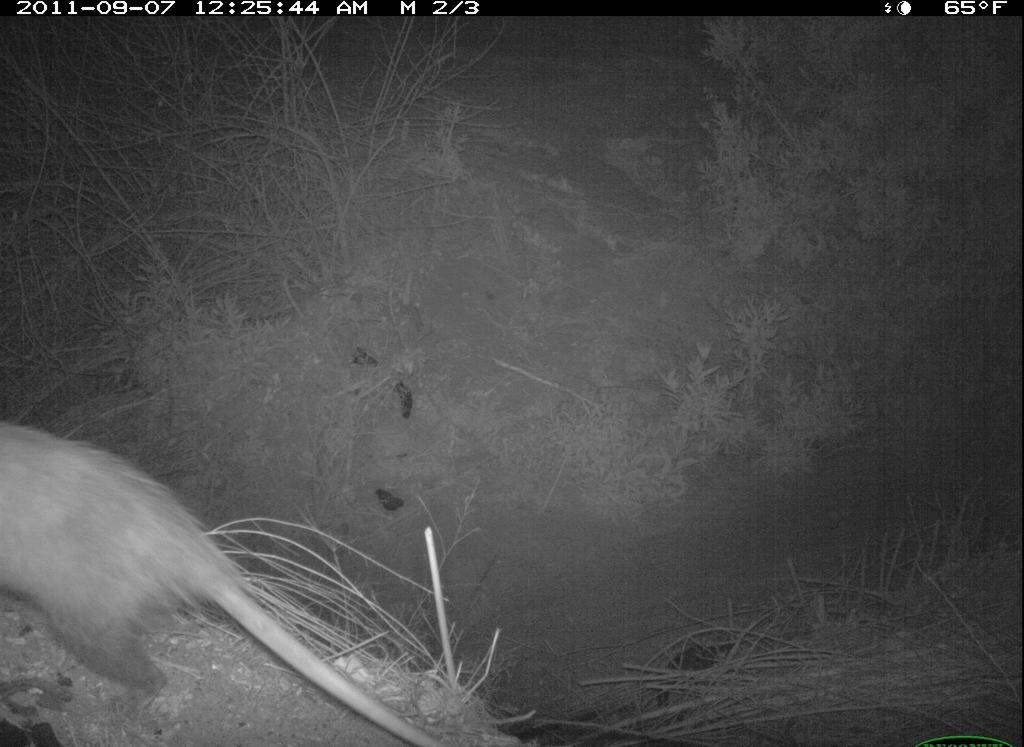opossum: (8, 401, 487, 747)
